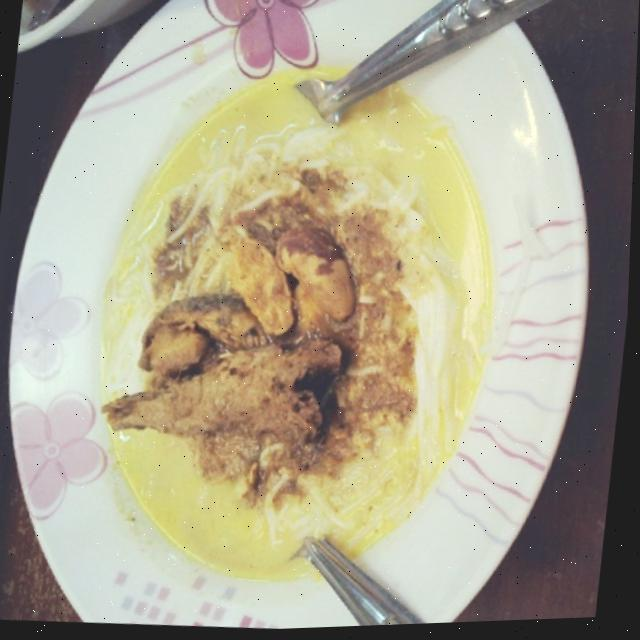面条主食: (56, 47, 517, 599)
